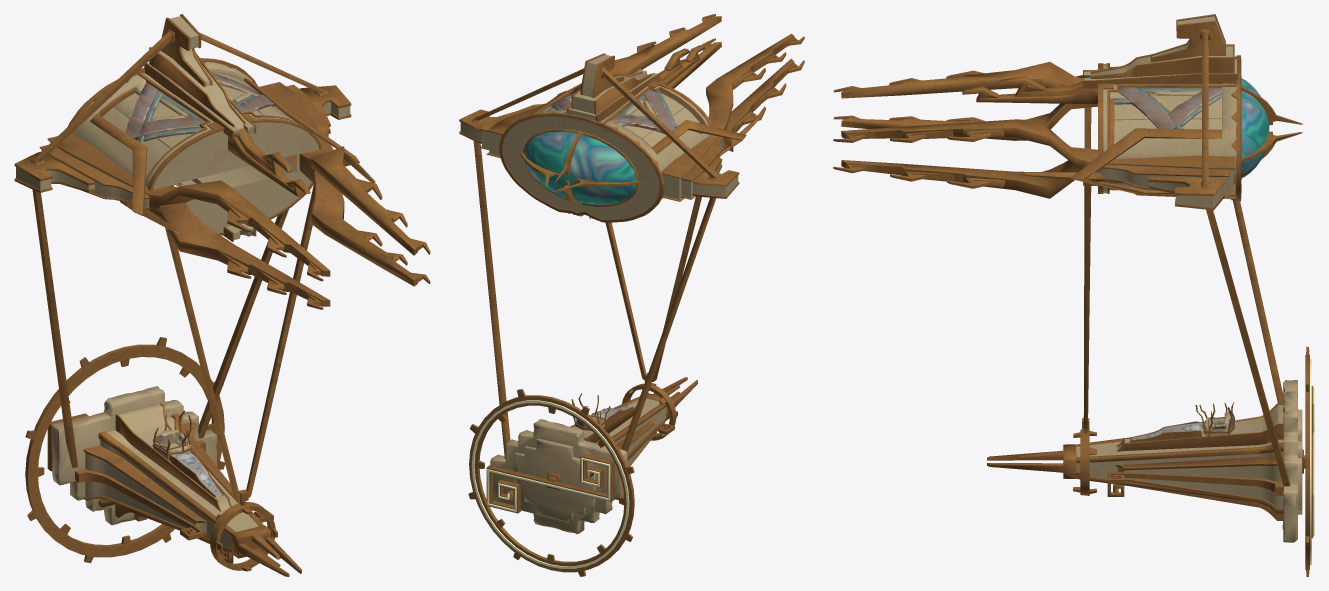
The model's file is SunStation.glb.
3 views of the same model, side by side, from view 1: azimuth 30°, elevation 25°; view 2: azimuth 150°, elevation 25°; view 3: azimuth 270°, elevation 25° (orthographic). The views are drawn at different scales.
Parts seen in each view (by area): view 1: SunStation; view 2: SunStation; view 3: SunStation.
Boxes of the visible parts, bbox=[...] form: SunStation: bbox=[14, 14, 430, 576]; SunStation: bbox=[459, 14, 804, 576]; SunStation: bbox=[833, 14, 1314, 576].
Size of the model in its own units: 0.9168 by 1.56 by 1.26.
Materials: 1 (1 with a texture image).
